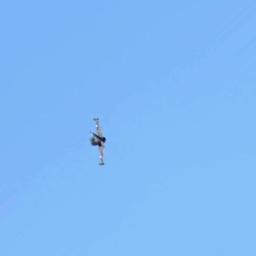Airplane: (90, 116, 107, 168)
